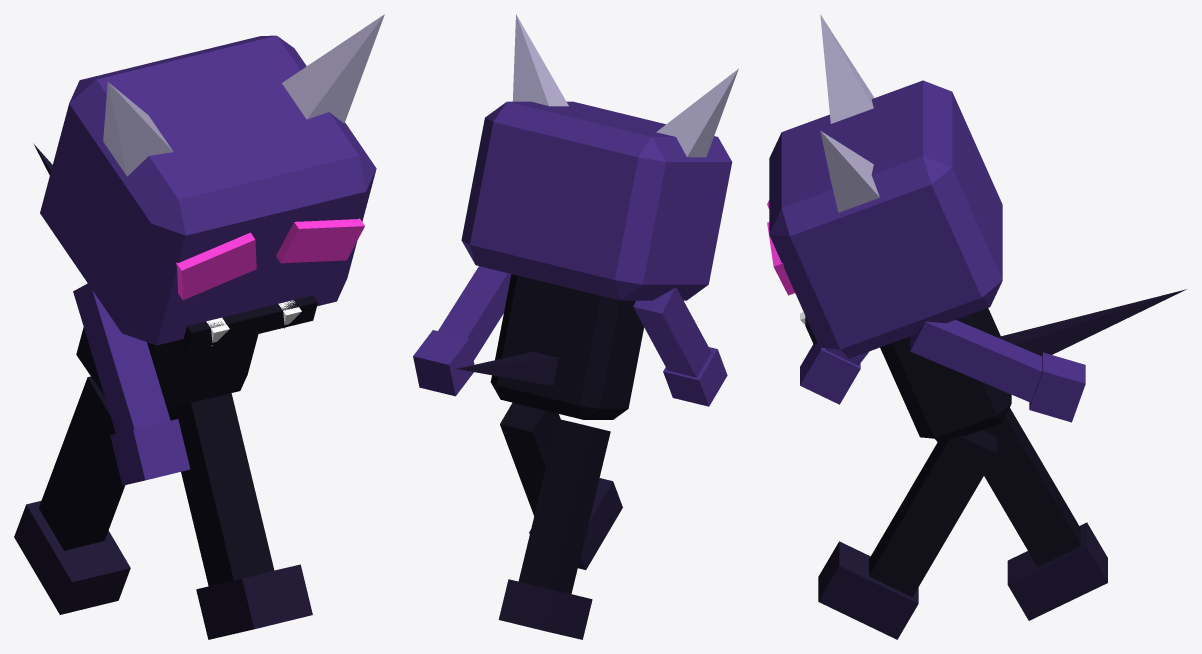
Rendered from scout_r16.glb.
3 renders of one model, left to right at view 1: azimuth 30°, elevation 25°; view 2: azimuth 150°, elevation 25°; view 3: azimuth 270°, elevation 25°, orthographic. The views are drawn at different scales.
Visible parts, largest first — view 1: scout_r16_mesh; view 2: scout_r16_mesh; view 3: scout_r16_mesh.
Boxes of the visible parts, x1,y1,x2,y2 form: scout_r16_mesh: [14, 14, 384, 639]; scout_r16_mesh: [413, 14, 738, 639]; scout_r16_mesh: [767, 14, 1187, 639].
Size of the model in its own units: 0.5439 by 1.2 by 0.8297.
1 material, 1 textured.
